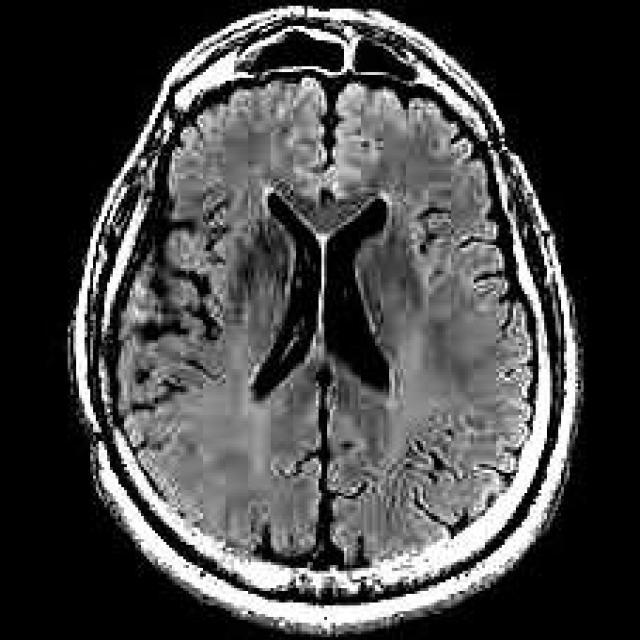notumor: (68, 6, 578, 628)
